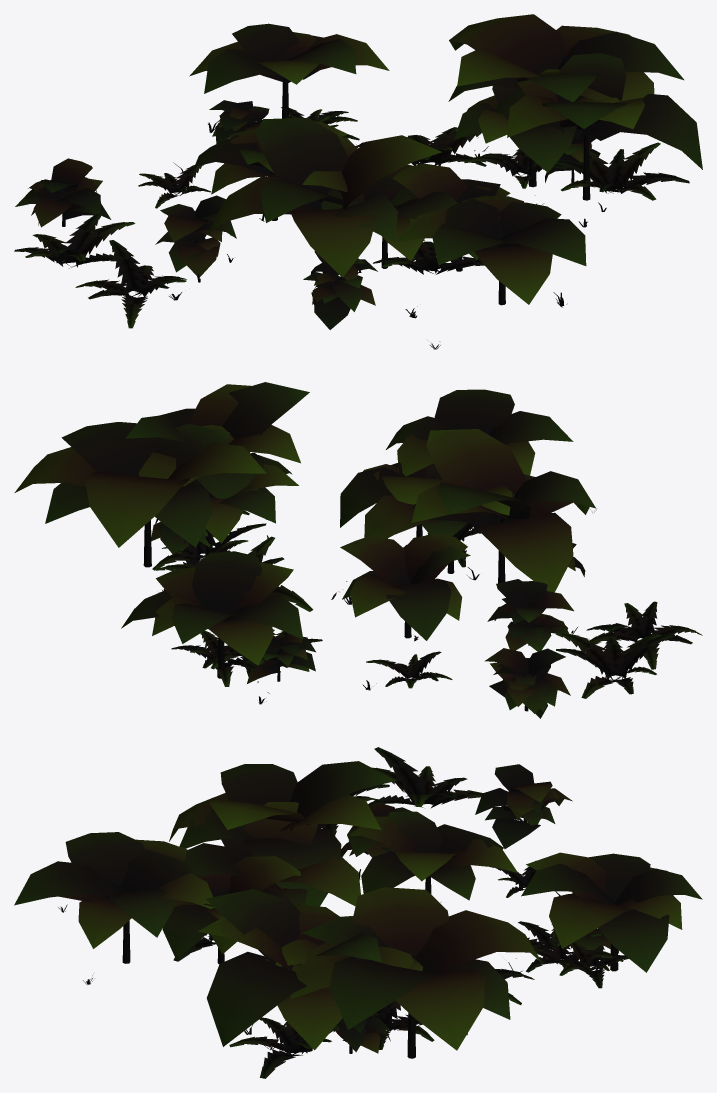
The model's file is patch_banana.glb.
3 views of the same model, one above another, from view 1: azimuth 30°, elevation 25°; view 2: azimuth 150°, elevation 25°; view 3: azimuth 270°, elevation 25° (orthographic). The views are drawn at different scales.
Parts seen in each view (by area): view 1: patch_banana; view 2: patch_banana; view 3: patch_banana.
Part boxes in pixels (bbox=[...]): patch_banana: bbox=[14, 14, 702, 349]; patch_banana: bbox=[14, 382, 702, 718]; patch_banana: bbox=[14, 747, 702, 1078].
Size of the model in its own units: 14.32 by 3.02 by 12.85.
Materials: 1 (1 with a texture image).
